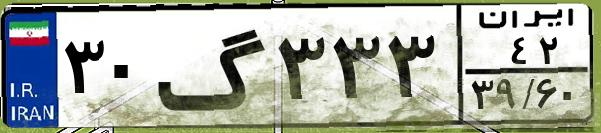0: (110, 28, 156, 98), (560, 70, 590, 125)
2: (537, 27, 568, 80)
3: (270, 28, 330, 110), (385, 28, 445, 110), (330, 28, 385, 110), (57, 26, 110, 100), (470, 70, 495, 125)
4: (508, 27, 537, 80)
6: (535, 70, 560, 125)
9: (495, 70, 520, 125)
گ: (156, 12, 270, 120)
